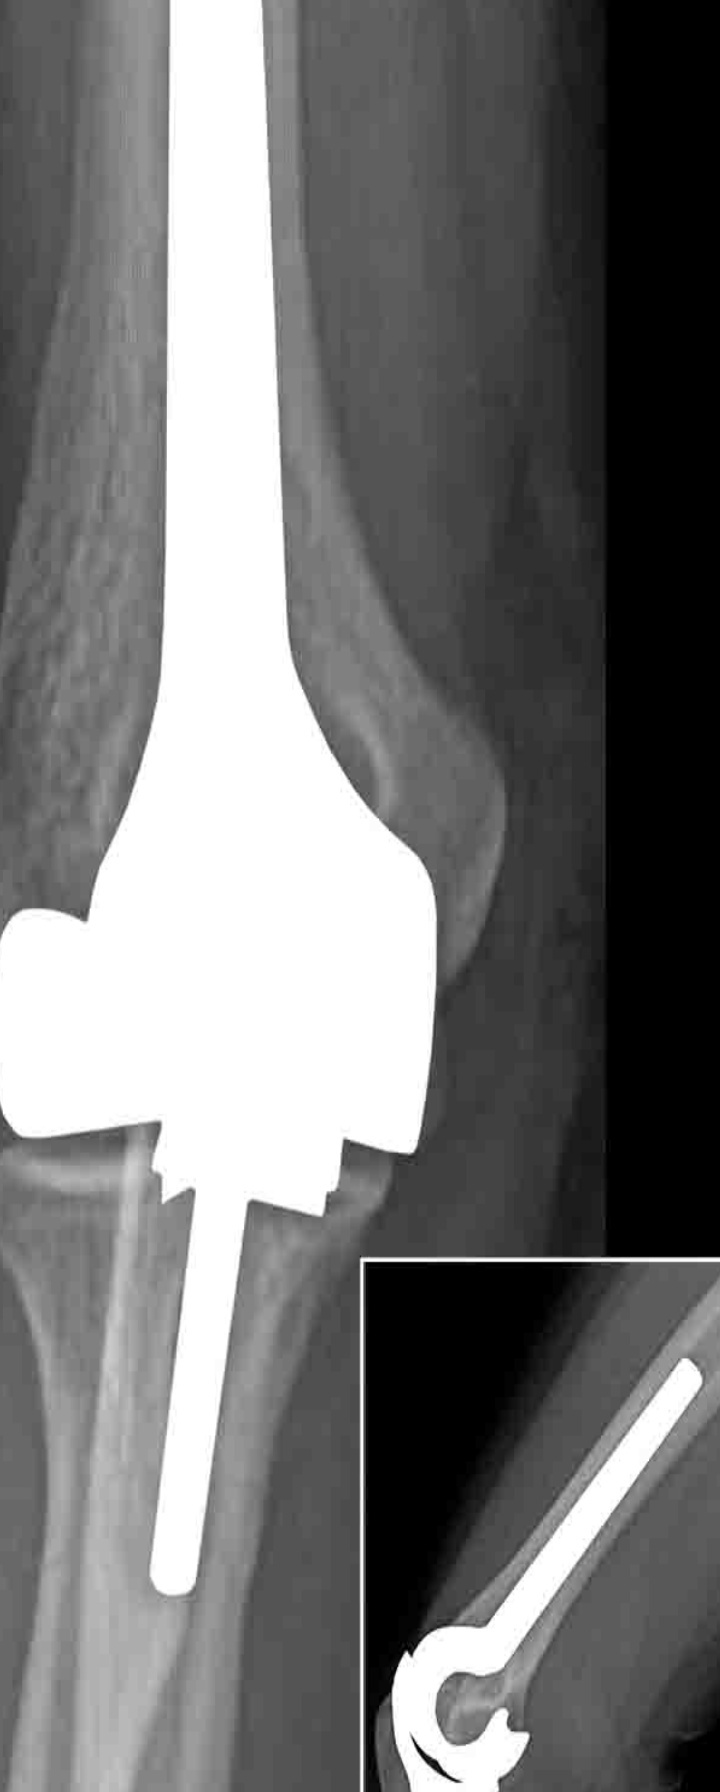Elbow - IBP - Biomet: (2, 1, 472, 1618), (377, 1313, 709, 1792)
